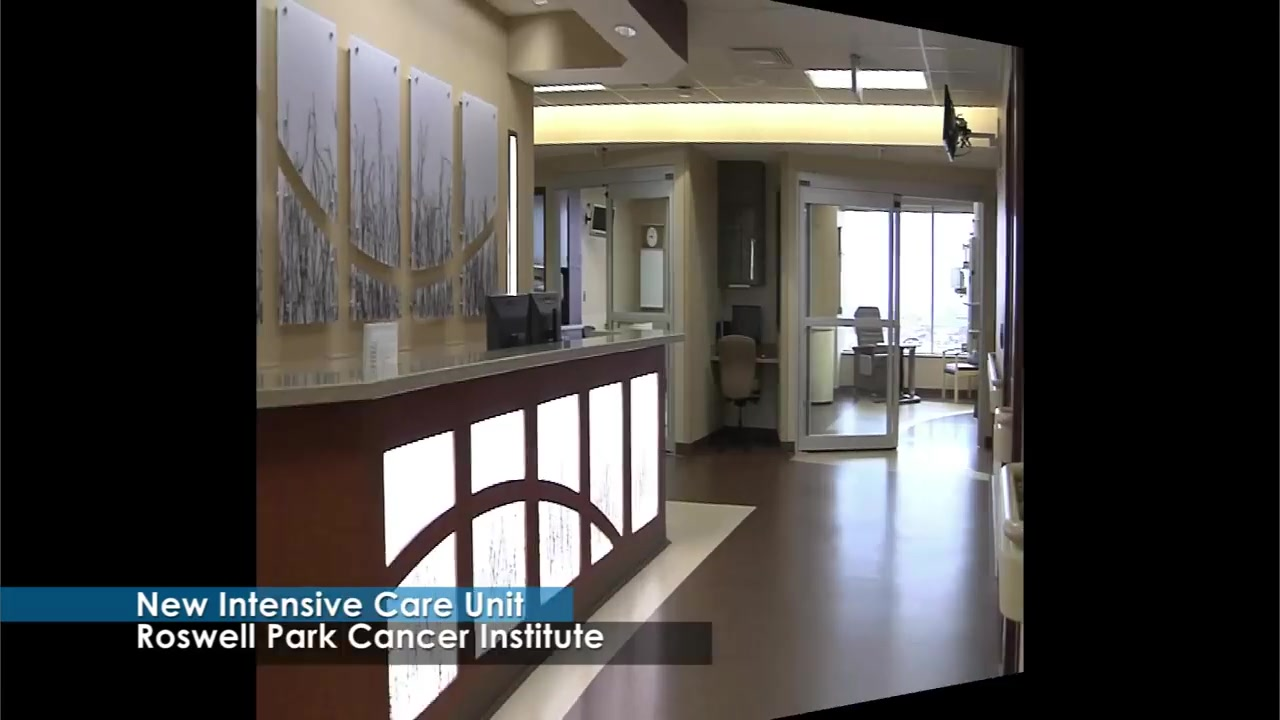TV: (942, 84, 967, 163), (589, 204, 617, 238)
chair: (708, 334, 769, 443), (942, 343, 978, 402), (732, 305, 761, 346)
computer: (362, 320, 407, 383), (485, 294, 529, 352), (529, 292, 562, 345)
counter: (254, 347, 681, 720)
countertop: (256, 329, 687, 409), (708, 356, 779, 364)
hallway_assist_bar: (999, 462, 1023, 549), (987, 352, 1001, 387), (995, 406, 1011, 426)
handle: (748, 237, 757, 281)
medical_drawer: (717, 160, 768, 289)
mouse: (760, 353, 766, 359)
overbed_table: (853, 342, 922, 404)
sofa: (853, 307, 904, 397)
